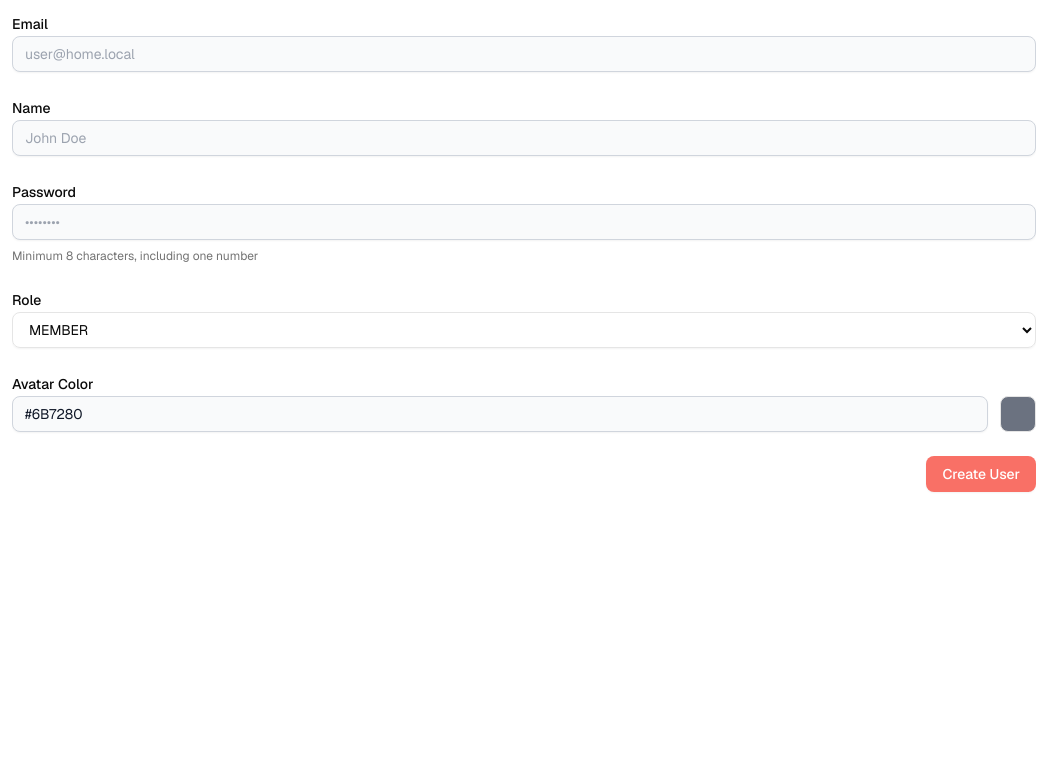
Test: UserForm Component › Error Handling › should display error on duplicate email
Fill and submit
In the field labelled "Email": x=524, y=54 left=12, top=36, right=1036, bottom=72, type "duplicate@example.com"
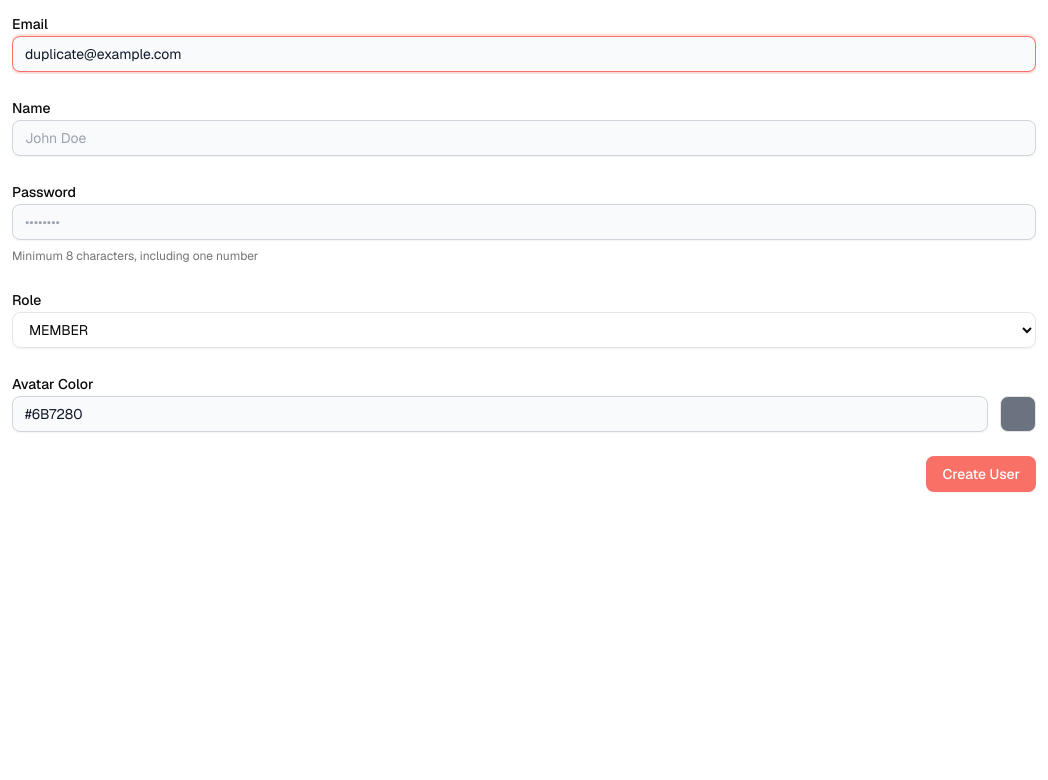
In the field labelled "Name": x=524, y=138 left=12, top=120, right=1036, bottom=156, type "Test User"
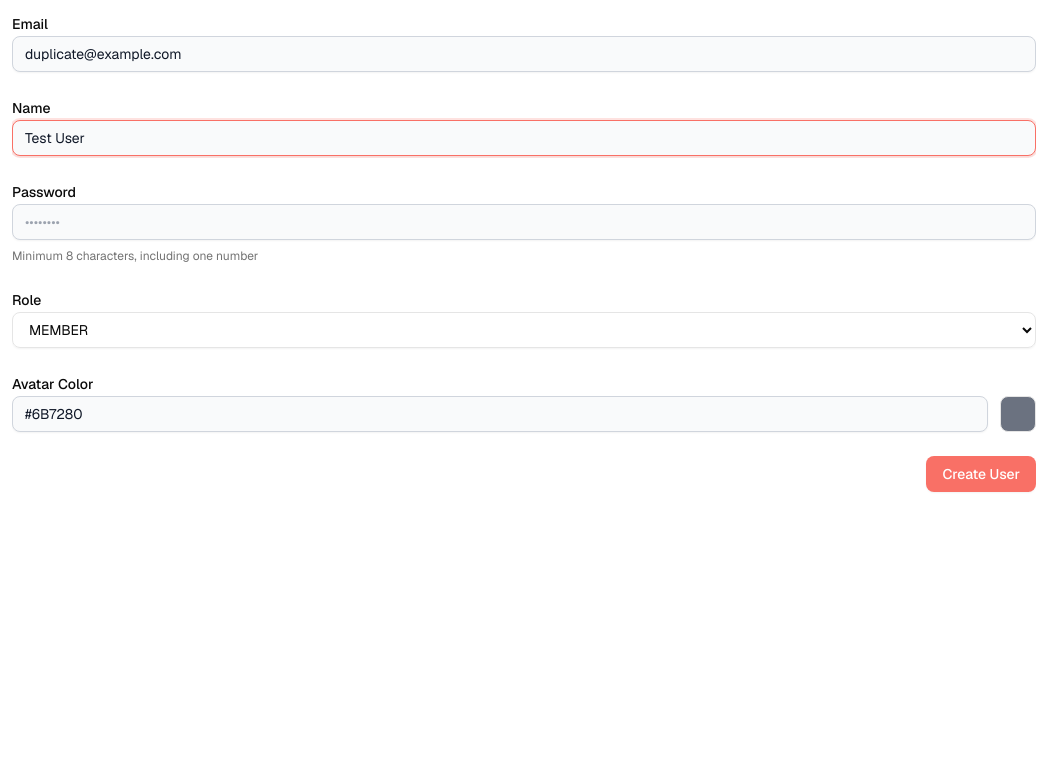
In the password field labelled "Password": x=524, y=222 left=12, top=204, right=1036, bottom=240, type "TestPass123"
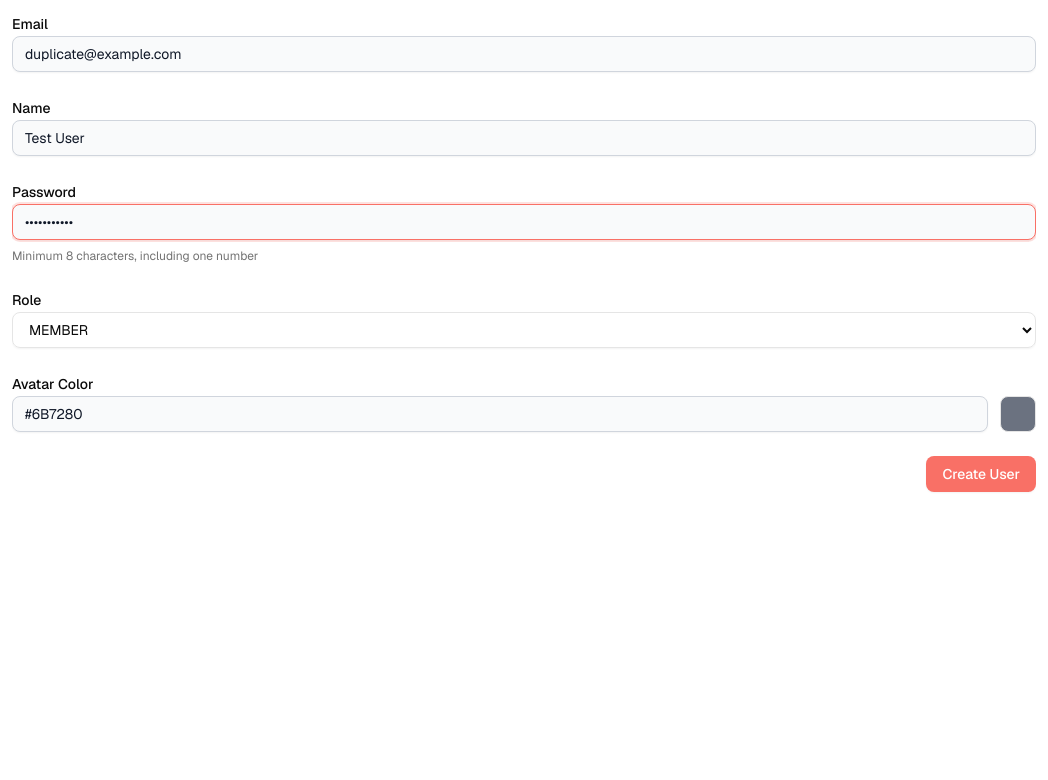
Click the button "Create User": x=981, y=474 left=926, top=456, right=1036, bottom=492
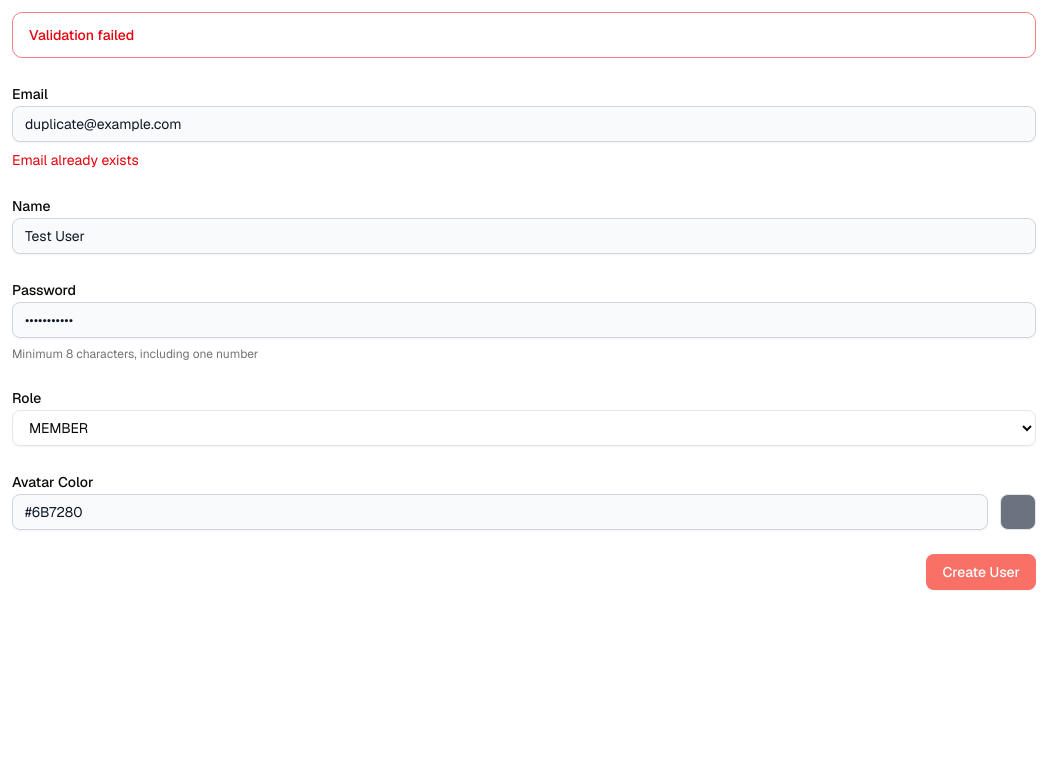
Expected: the text "Email already exists" is shown, left=12, top=151, right=139, bottom=169
